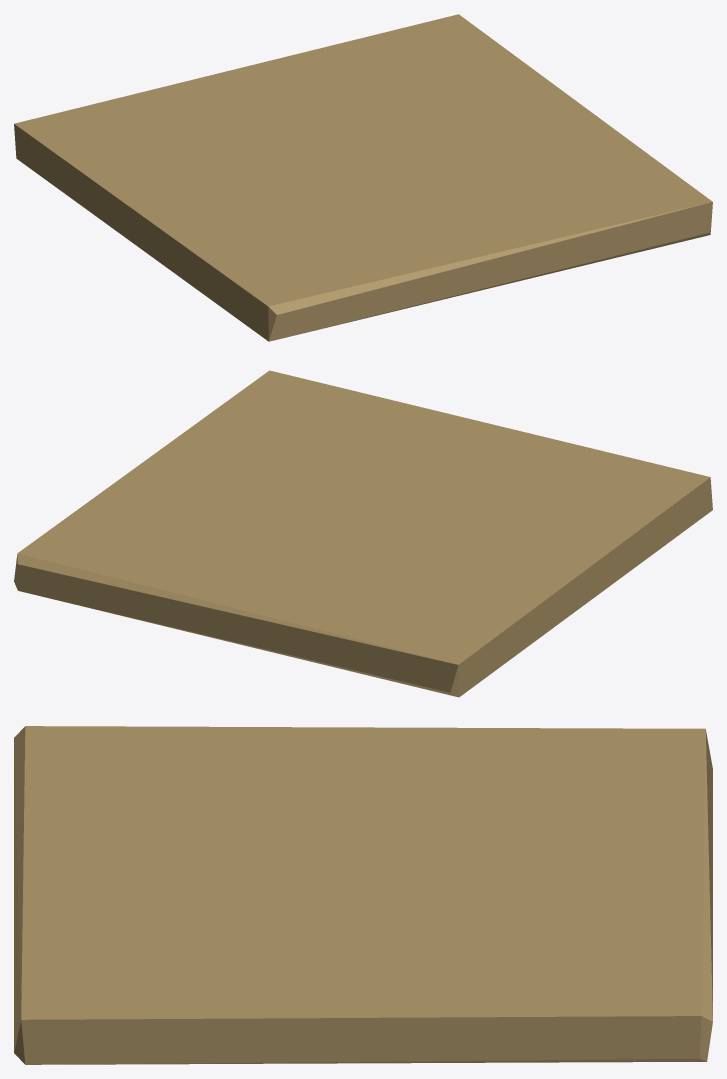
The model's file is coast-beach-straight.lod1.glb.
3 views of the same model, one above another, from view 1: azimuth 30°, elevation 25°; view 2: azimuth 150°, elevation 25°; view 3: azimuth 270°, elevation 25° (orthographic). The views are drawn at different scales.
Parts seen in each view (by area): view 1: coast-beach-straight__body; view 2: coast-beach-straight__body; view 3: coast-beach-straight__body.
Part boxes in pixels (<box>): coast-beach-straight__body: <box>14,14,712,341</box>; coast-beach-straight__body: <box>14,370,712,697</box>; coast-beach-straight__body: <box>14,726,712,1064</box>.
Bounding box in the file's own units: 3.97 × 0.3087 × 4.
